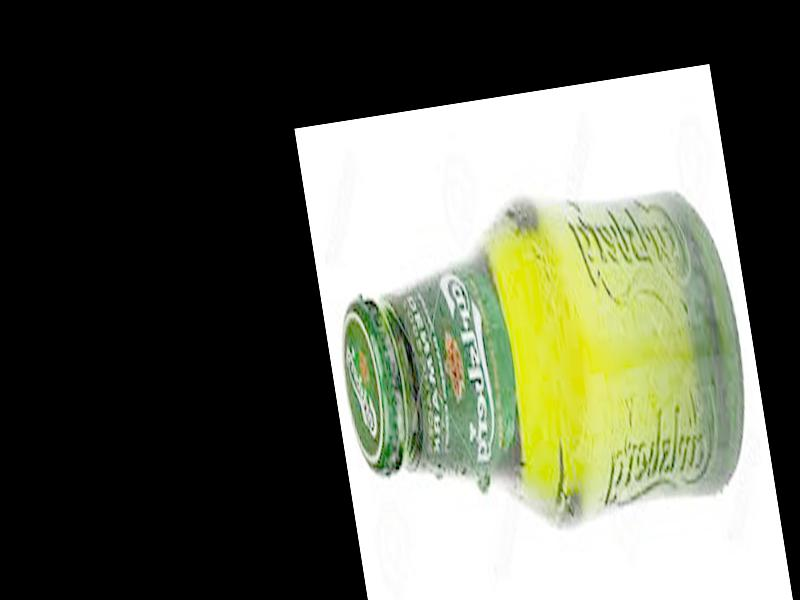Beer: (320, 166, 765, 555)
